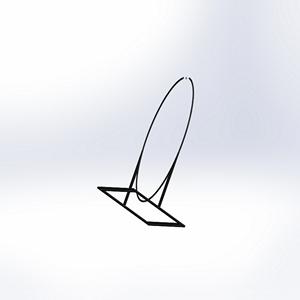circle: (95, 75, 195, 228)
